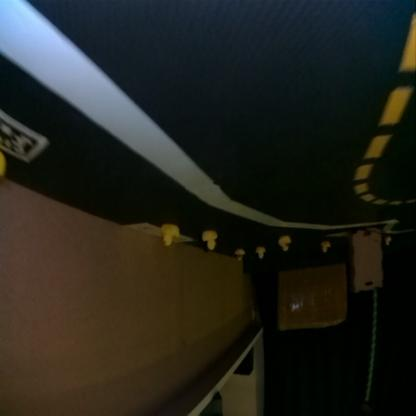Duckie: (160, 226, 178, 247), (202, 232, 216, 250), (278, 237, 289, 251), (256, 247, 264, 260), (234, 250, 244, 260), (322, 243, 330, 253), (384, 238, 390, 246)
QR code: (0, 108, 44, 162)
